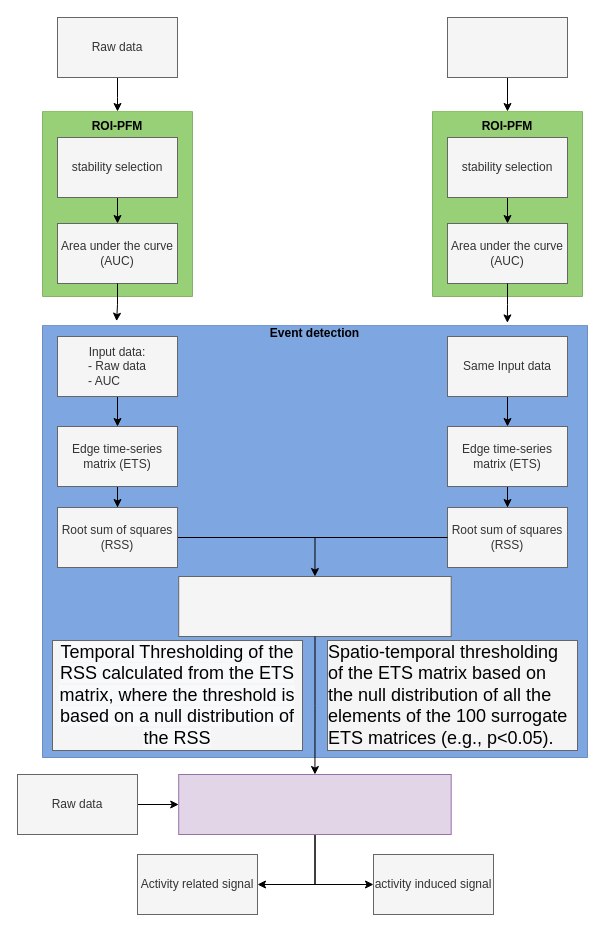
Image size: 605x932. Some labels were removed from this diagram. The shapes that lost their labels are listed below. From the top down, each one's centre as x and y in pixels, then its label:
[507,47]: Surrogate data (100)
[314,606]: Thresholding and selection of significant timepoints by ETS or RSS method
[314,804]: Debiasing and ordinary least-squares with selected points
